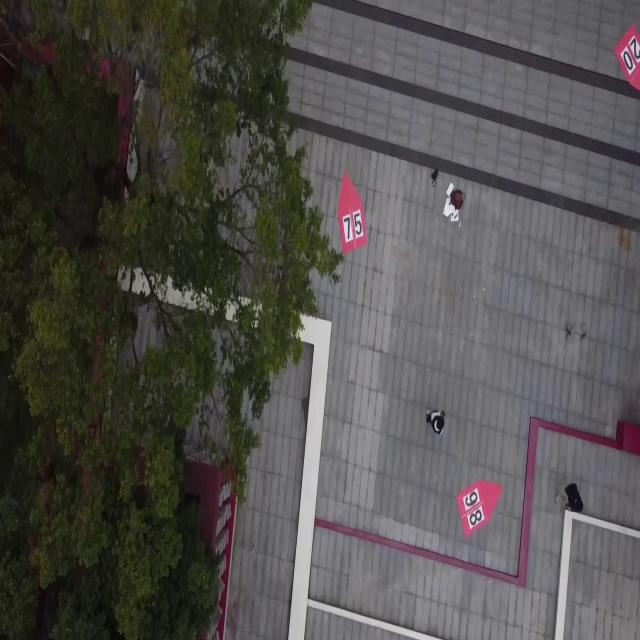-sign-: (180, 447, 238, 640), (456, 479, 502, 538), (336, 171, 368, 255), (614, 22, 640, 91)
